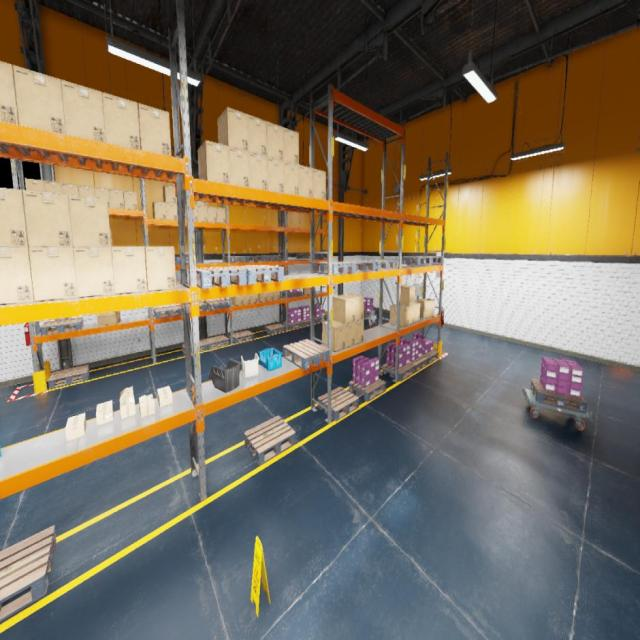box: (13, 65, 66, 134), (22, 190, 73, 246), (61, 80, 106, 142), (28, 247, 78, 302), (68, 195, 111, 246), (102, 92, 140, 149), (74, 247, 115, 298), (0, 247, 34, 304), (138, 103, 172, 156), (111, 247, 147, 294), (0, 188, 29, 246), (144, 246, 177, 291), (198, 139, 230, 184), (217, 107, 249, 151), (0, 60, 18, 124), (229, 147, 250, 187), (248, 114, 267, 156), (248, 152, 268, 190), (266, 120, 284, 160), (322, 320, 345, 351), (332, 296, 356, 324), (64, 413, 86, 442), (342, 294, 364, 322), (267, 157, 284, 193), (283, 127, 299, 164), (284, 162, 299, 196), (120, 386, 135, 419), (96, 400, 113, 426), (396, 284, 416, 306), (390, 304, 409, 327), (313, 168, 326, 200), (299, 165, 312, 197), (96, 311, 121, 326), (139, 394, 154, 418), (94, 186, 110, 208), (417, 299, 435, 318), (123, 190, 138, 210), (158, 386, 172, 407), (109, 189, 124, 208), (402, 304, 415, 325), (25, 178, 44, 192), (345, 322, 355, 348), (163, 184, 176, 203), (354, 320, 364, 344), (61, 182, 79, 195), (44, 180, 62, 193), (153, 201, 166, 219), (166, 202, 178, 220), (78, 185, 95, 196), (177, 203, 187, 220), (197, 206, 207, 222), (207, 206, 216, 222), (217, 208, 226, 222), (414, 302, 420, 322), (232, 296, 243, 306), (258, 292, 267, 302), (243, 295, 251, 304), (194, 205, 198, 221), (267, 292, 274, 301), (251, 294, 258, 303), (176, 198, 186, 204), (303, 287, 310, 295), (273, 292, 280, 300), (198, 200, 206, 206), (110, 229, 112, 246), (195, 201, 197, 205)
pallets: (0, 526, 57, 622), (244, 415, 295, 465), (530, 379, 587, 413), (318, 386, 359, 421), (283, 339, 329, 370), (188, 267, 246, 289), (49, 364, 90, 389), (231, 265, 284, 284), (40, 317, 83, 336), (349, 379, 386, 401), (314, 262, 356, 275), (382, 364, 414, 381), (181, 339, 208, 355), (153, 305, 183, 319), (338, 261, 376, 272), (204, 335, 228, 350), (409, 356, 428, 373), (365, 260, 395, 270), (230, 330, 253, 343), (180, 302, 207, 313), (402, 256, 430, 265), (422, 350, 438, 365), (264, 323, 285, 334), (205, 300, 228, 310), (414, 256, 442, 263), (175, 257, 196, 265), (225, 256, 248, 263), (282, 290, 302, 298), (283, 322, 303, 329), (246, 255, 264, 262), (261, 255, 282, 261), (301, 318, 315, 326), (296, 254, 315, 259), (314, 316, 327, 323), (364, 310, 374, 318), (316, 254, 327, 258)
